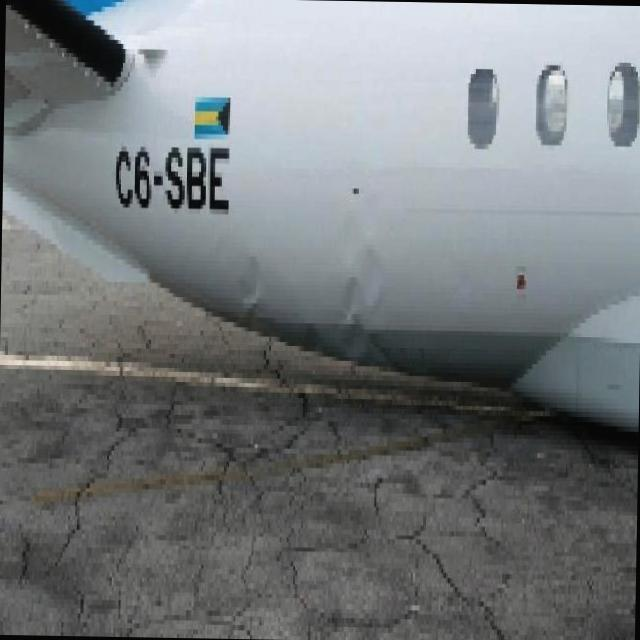dent: (235, 204, 389, 372)
